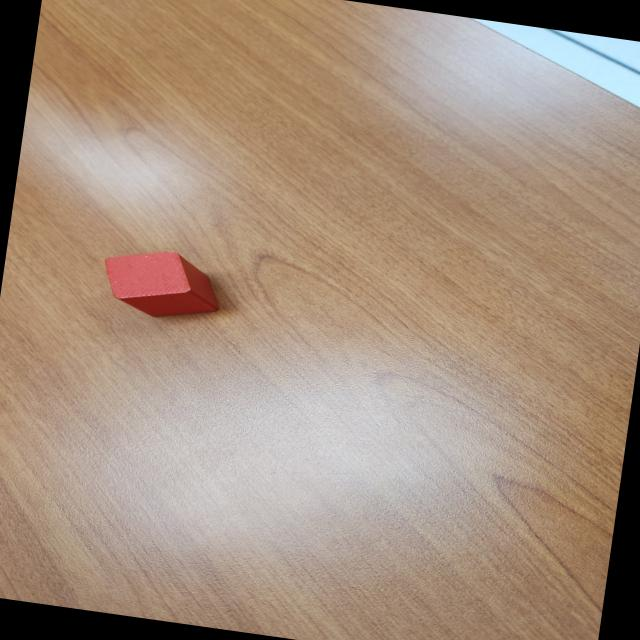red: (99, 244, 227, 326)
